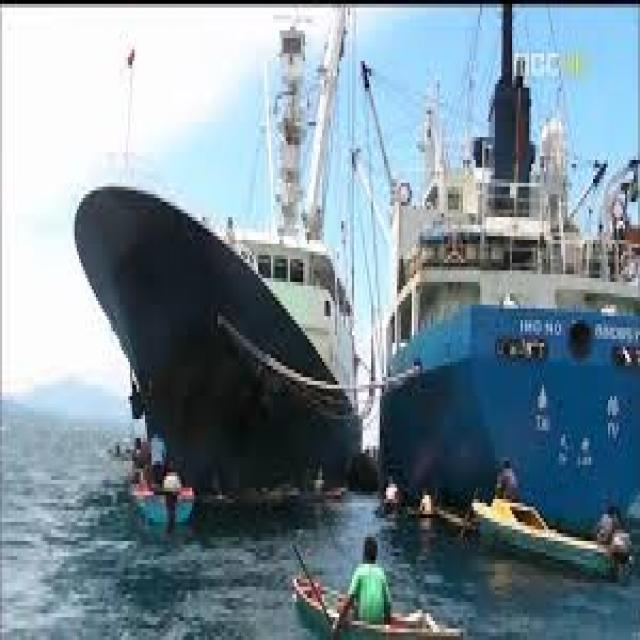Ship: (44, 1, 388, 531), (351, 1, 640, 569)
